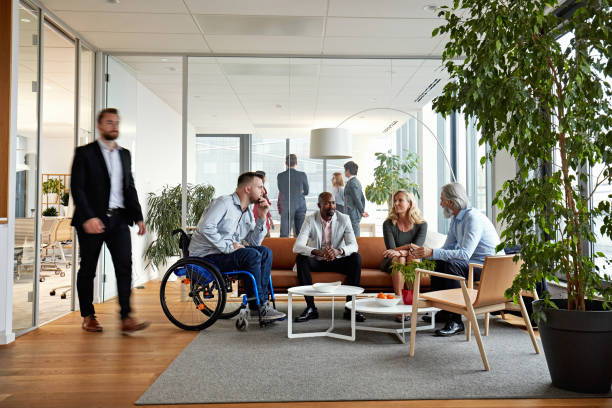without mask: (92, 101, 125, 144), (234, 165, 267, 208), (439, 185, 466, 222), (313, 188, 342, 219), (385, 191, 416, 217), (328, 172, 345, 187)
